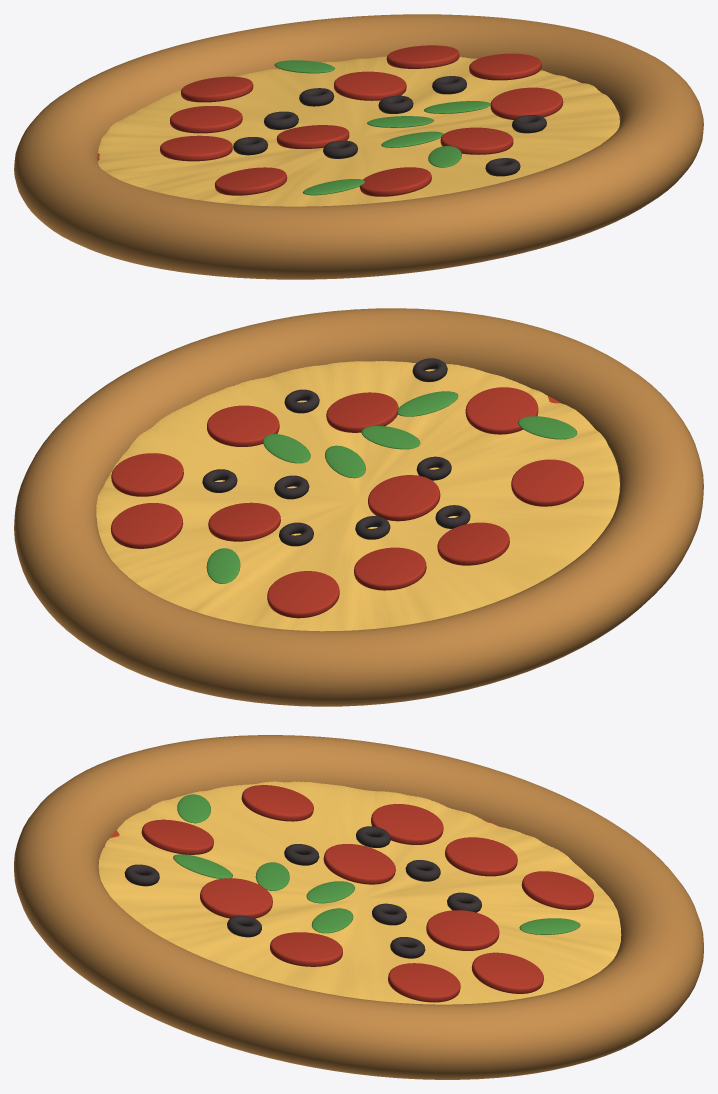
Rendered from pizza.glb.
3 renders of one model, top to bottom at view 1: azimuth 30°, elevation 25°; view 2: azimuth 150°, elevation 25°; view 3: azimuth 270°, elevation 25°, orthographic.
Visible parts, largest first — view 1: Borde, Queso, Pepperoni.04, Pepperoni.00, Pepperoni.01, Pepperoni.07, Pepperoni.05, Pepperoni.09, Pepperoni.03, Pepperoni.10, Pepperoni.06, Pepperoni.08 (+15 smaller); view 2: Borde, Queso, Pepperoni.09, Pepperoni.06, Pepperoni.02, Pepperoni.08, Pepperoni.07, Pepperoni.05, Pepperoni.01, Pepperoni.10, Pepperoni.04, Pepperoni.00 (+15 smaller); view 3: Borde, Queso, Pepperoni.00, Pepperoni.03, Pepperoni.08, Pepperoni.01, Pepperoni.05, Pepperoni.02, Pepperoni.10, Pepperoni.06, Pepperoni.04, Pepperoni.09 (+15 smaller).
Part boxes in pixels (left/top/right/bottom): Borde: left=14, top=14, right=703, bottom=279; Queso: left=97, top=56, right=619, bottom=206; Pepperoni.04: left=490, top=87, right=563, bottom=119; Pepperoni.00: left=334, top=71, right=406, bottom=100; Pepperoni.01: left=170, top=106, right=242, bottom=133; Pepperoni.07: left=359, top=167, right=431, bottom=196; Pepperoni.05: left=469, top=53, right=541, bottom=80; Pepperoni.09: left=214, top=167, right=287, bottom=195; Pepperoni.03: left=440, top=127, right=513, bottom=154; Pepperoni.10: left=160, top=135, right=232, bottom=161; Pepperoni.06: left=181, top=76, right=253, bottom=102; Pepperoni.08: left=386, top=45, right=459, bottom=68; Borde: left=14, top=308, right=703, bottom=706; Queso: left=96, top=361, right=619, bottom=631; Pepperoni.09: left=511, top=459, right=583, bottom=506; Pepperoni.06: left=267, top=571, right=339, bottom=618; Pepperoni.02: left=368, top=475, right=440, bottom=521; Pepperoni.08: left=110, top=503, right=183, bottom=548; Pepperoni.07: left=465, top=387, right=538, bottom=434; Pepperoni.05: left=111, top=453, right=183, bottom=496; Pepperoni.01: left=354, top=547, right=426, bottom=590; Pepperoni.10: left=437, top=522, right=509, bottom=565; Pepperoni.04: left=207, top=405, right=279, bottom=446; Pepperoni.00: left=208, top=502, right=280, bottom=541; Borde: left=14, top=735, right=703, bottom=1079; Queso: left=98, top=781, right=621, bottom=1004; Pepperoni.00: left=426, top=910, right=499, bottom=950; Pepperoni.03: left=200, top=878, right=272, bottom=918; Pepperoni.08: left=471, top=952, right=543, bottom=993; Pepperoni.01: left=445, top=837, right=517, bottom=876; Pepperoni.05: left=388, top=963, right=460, bottom=1002; Pepperoni.02: left=323, top=844, right=395, bottom=884; Pepperoni.10: left=371, top=804, right=443, bottom=844; Pepperoni.06: left=521, top=871, right=593, bottom=909; Pepperoni.04: left=270, top=932, right=342, bottom=966; Pepperoni.09: left=241, top=785, right=313, bottom=821.
Bounding box in the file's own units: 2.28 × 0.5161 × 2.26.
